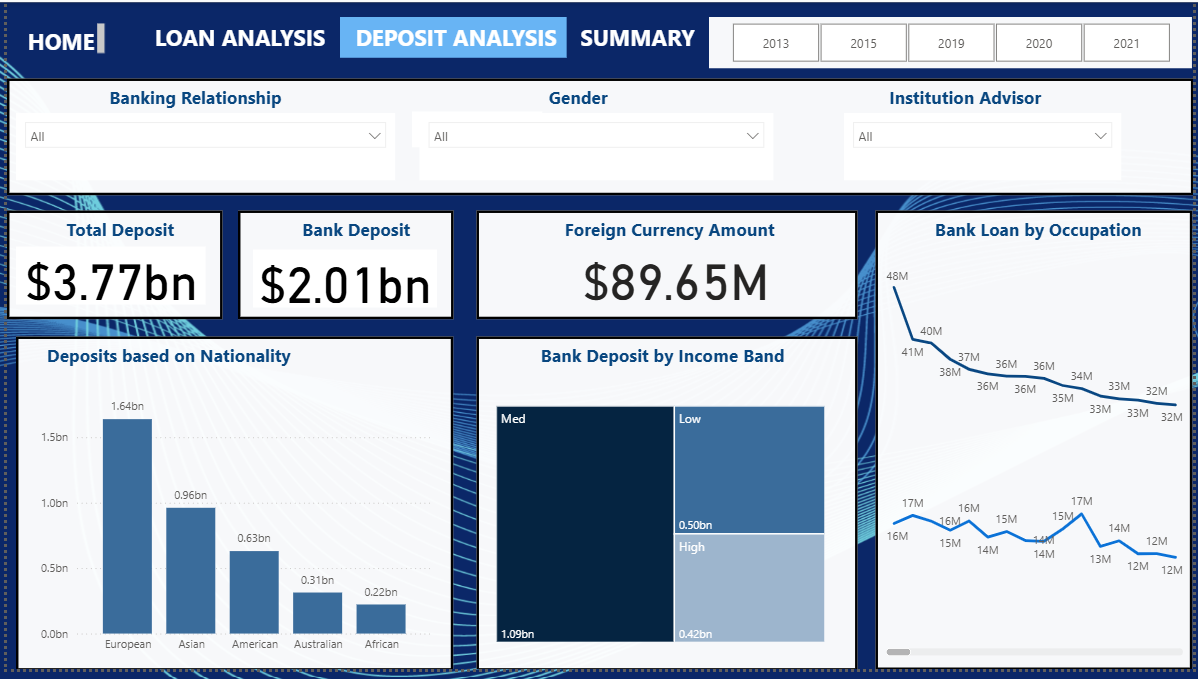

What the dashboard file says about the page in this screenshot:
{"tool":"powerbi","page":{"name":"Deposit Analysis","canvas":[1280,720],"ordinal":2},"visuals":[{"type":"textbox","box":[0,17.8,110.1,43.7],"z":0},{"type":"textbox","box":[137.6,16.2,221.8,43.7],"z":1000},{"type":"textbox","box":[359.5,16.2,244.5,43.7],"z":2000},{"type":"textbox","box":[604,16.2,153.8,55.1],"z":3000},{"type":"slicer","fields":{"Values":["Clients - Banking.Joined Bank.Variation.Date Hierarchy.Year"]},"box":[757.8,16.2,521.4,55.1],"z":4000},{"type":"textbox","box":[0,82.6,1280.8,126.3],"z":5000},{"type":"textbox","box":[0,224.8,232.9,117.5],"z":6000},{"type":"textbox","box":[249.1,224.8,232.9,117.5],"z":7000},{"type":"textbox","box":[506.3,360.5,411.1,360.5],"z":8000},{"type":"textbox","box":[506.3,224.8,411.1,117.5],"z":9000},{"type":"textbox","box":[10.1,360.5,471.9,360.5],"z":10000},{"type":"textbox","box":[937.7,224.8,342.3,496.2],"z":11000},{"type":"actionButton","box":[9.7,25.9,89.1,27.5],"z":12000},{"type":"actionButton","box":[437.2,118.2,140.9,38.9],"z":13000},{"type":"card","fields":{"Values":["Banking Relationship.Total deposits"]},"box":[10.1,263.3,204.6,62.8],"z":14000},{"type":"card","fields":{"Values":["Sum(Banking_Clients.Bank Deposits)"]},"box":[265.3,267.3,198.5,62.8],"z":15000},{"type":"treemap","fields":{"Group":["Banking_Clients.Custom"],"Values":["Sum(Banking_Clients.Bank Deposits)"]},"box":[522.5,431.4,364.6,265.3],"z":16000},{"type":"card","fields":{"Values":["Banking_Clients.Foreign Currency Amount"]},"box":[593.4,263.3,257.2,62.8],"z":17000},{"type":"clusteredColumnChart","fields":{"Category":["Clients - Banking.Nationality"],"Y":["Banking Relationship.Total deposits"]},"box":[30.4,409.1,433.4,301.8],"z":18000},{"type":"areaChart","fields":{"Category":["Clients - Banking.Occupation"],"Y":["Banking Relationship.Total loan","Sum(Clients - Banking.Bank Loans)"]},"box":[943.8,277.5,330.1,433.4],"z":19000},{"type":"slicer","fields":{"Values":["Banking_Clients.BRId"]},"box":[9.7,119.8,409.7,72.9],"z":20000},{"type":"slicer","fields":{"Values":["Gender.Gender"]},"box":[445.3,119.8,382.1,72.9],"z":21000},{"type":"slicer","fields":{"Values":["Investment Advisor.IAId"]},"box":[903.5,119.8,299.6,72.9],"z":22000},{"type":"actionButton","box":[157.1,27.5,191.1,27.5],"z":23000},{"type":"actionButton","box":[616.9,17.8,140.9,27.5],"z":24000}]}

Visuals, with their boxes in screenshot pixels (x1, y1, x2, y2), scaled from the page's 1280x720 canvas onto the 1198x679 screenshot:
textbox: detection(0, 17, 103, 58)
textbox: detection(129, 15, 336, 56)
textbox: detection(336, 15, 565, 56)
textbox: detection(565, 15, 709, 67)
slicer - Clients - Banking.Joined Bank.Variation.Date Hierarchy.Year: detection(709, 15, 1197, 67)
textbox: detection(0, 78, 1197, 197)
textbox: detection(0, 212, 218, 323)
textbox: detection(233, 212, 451, 323)
textbox: detection(474, 340, 859, 678)
textbox: detection(474, 212, 859, 323)
textbox: detection(9, 340, 451, 678)
textbox: detection(878, 212, 1197, 678)
actionButton: detection(9, 24, 92, 50)
actionButton: detection(409, 111, 541, 148)
card - Banking Relationship.Total deposits: detection(9, 248, 201, 308)
card - Sum(Banking_Clients.Bank Deposits): detection(248, 252, 434, 311)
treemap - Banking_Clients.Custom x Sum(Banking_Clients.Bank Deposits): detection(489, 407, 830, 657)
card - Banking_Clients.Foreign Currency Amount: detection(555, 248, 796, 308)
clusteredColumnChart - Clients - Banking.Nationality x Banking Relationship.Total deposits: detection(28, 386, 434, 670)
areaChart - Clients - Banking.Occupation x Banking Relationship.Total loan: detection(883, 262, 1192, 670)
slicer - Banking_Clients.BRId: detection(9, 113, 393, 182)
slicer - Gender.Gender: detection(417, 113, 774, 182)
slicer - Investment Advisor.IAId: detection(846, 113, 1126, 182)
actionButton: detection(147, 26, 326, 52)
actionButton: detection(577, 17, 709, 43)
